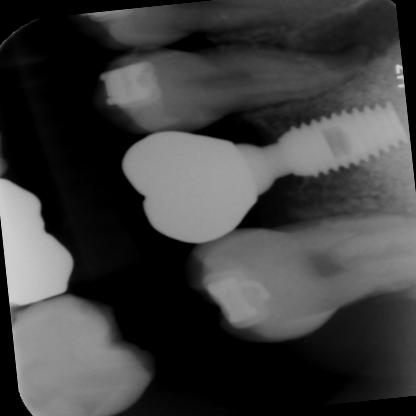Bicon: (283, 93, 412, 177)
